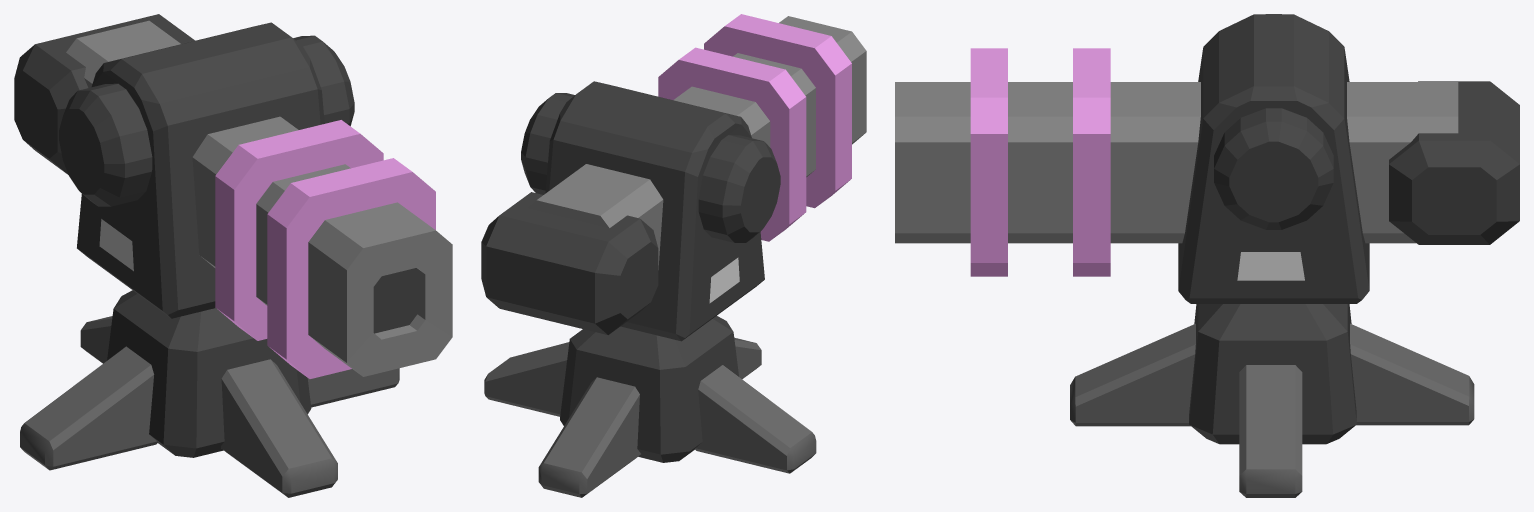
The model's file is gauss.fbx.
3 renders of one model, left to right at view 1: azimuth 30°, elevation 25°; view 2: azimuth 150°, elevation 25°; view 3: azimuth 270°, elevation 25°, orthographic. The views are drawn at different scales.
Visible parts, largest first — view 1: turret, base, light; view 2: turret, base, light; view 3: turret, base, light.
Part boxes in pixels (left/top/right/bottom): turret: left=14, top=14, right=452, bottom=378; base: left=20, top=290, right=399, bottom=497; light: left=99, top=219, right=133, bottom=271; turret: left=481, top=14, right=866, bottom=341; base: left=484, top=316, right=816, bottom=497; light: left=709, top=257, right=739, bottom=303; turret: left=895, top=14, right=1519, bottom=303; base: left=1070, top=304, right=1474, bottom=497; light: left=1237, top=252, right=1304, bottom=280.
Bounding box in the file's own units: 70.05 × 70.54 × 109.
